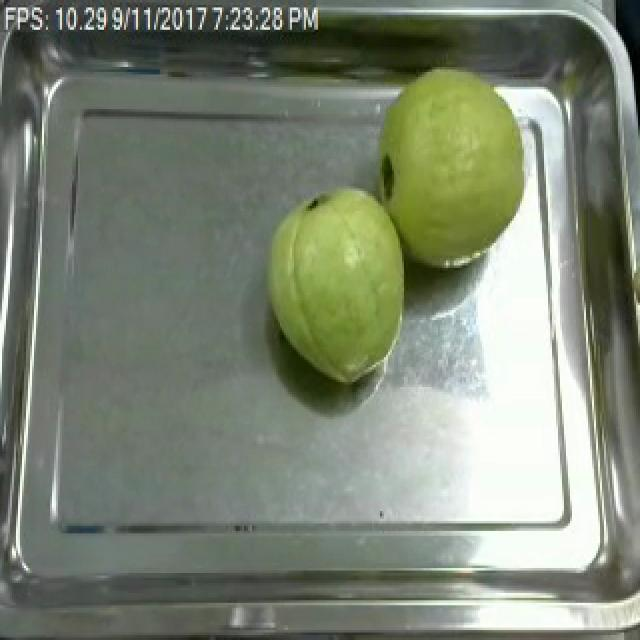Fruit: (368, 52, 546, 278), (256, 176, 416, 392)
